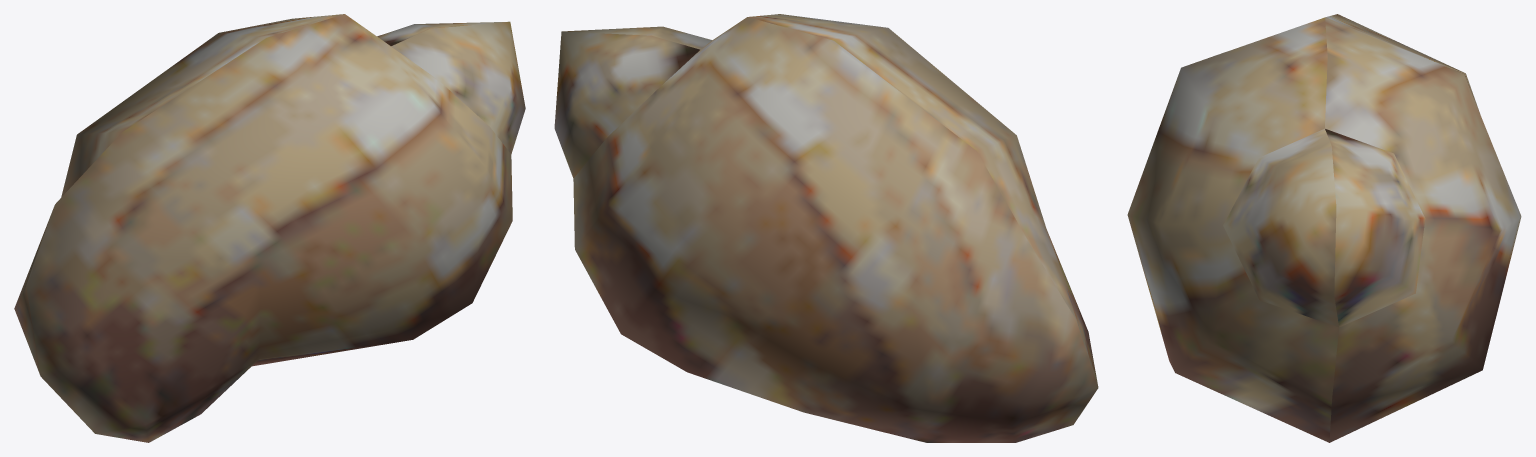
Rendered from 5010_Item_hailuo_06.FBX.
3 views of the same model, side by side, from view 1: azimuth 30°, elevation 25°; view 2: azimuth 150°, elevation 25°; view 3: azimuth 270°, elevation 25° (orthographic). The views are drawn at different scales.
Parts seen in each view (by area): view 1: 5010_Item_hailuo_06; view 2: 5010_Item_hailuo_06; view 3: 5010_Item_hailuo_06.
Part boxes in pixels (box(x1,y1,x2,y2)): 5010_Item_hailuo_06: box(14, 14, 525, 442); 5010_Item_hailuo_06: box(554, 14, 1098, 442); 5010_Item_hailuo_06: box(1127, 14, 1521, 442).
Bounding box in the file's own units: 97.97 × 67.42 × 61.61.
